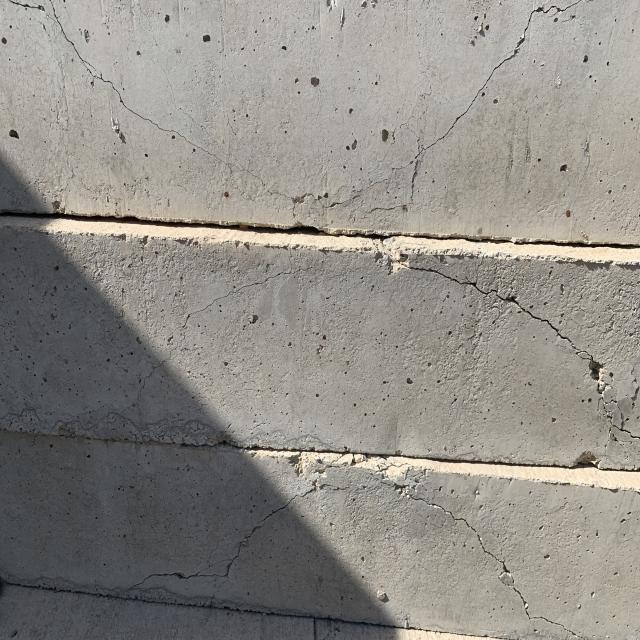diagonal crack: (132, 458, 640, 632), (301, 3, 597, 224), (398, 243, 638, 456), (41, 0, 219, 180)
horizontal crack: (9, 573, 372, 630), (3, 425, 236, 452)
